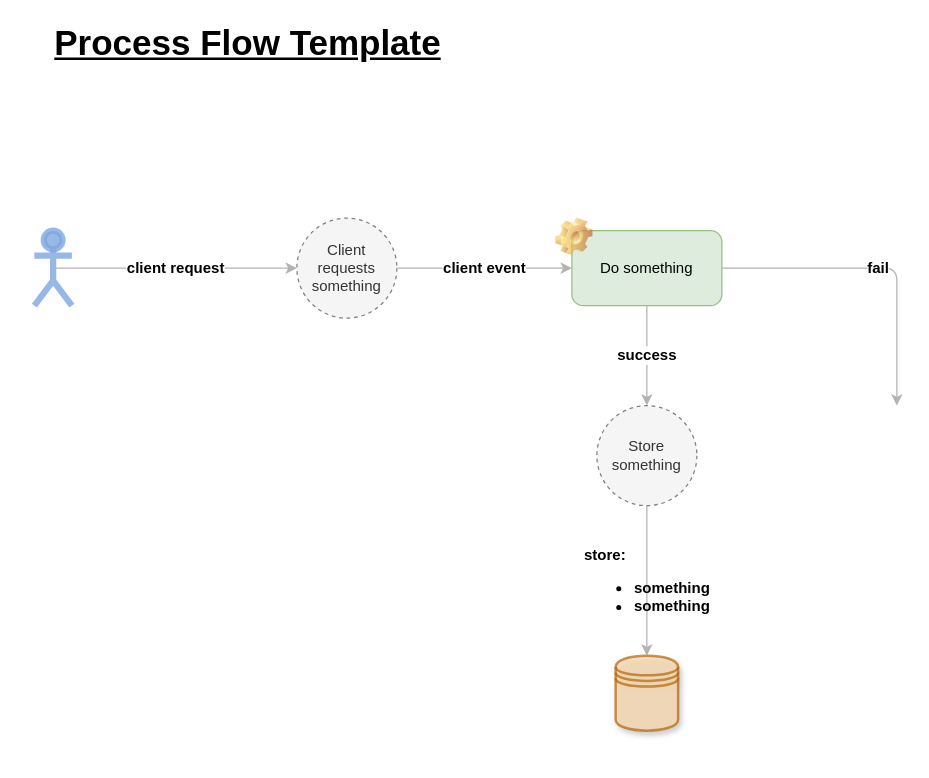
Image size: 929x778. Some labels were removed from this diagram. The centre of each missing label's shape, as x and y in pixels:
"Client" belongs at [52,267].
"Something storage" belongs at [647,694].
